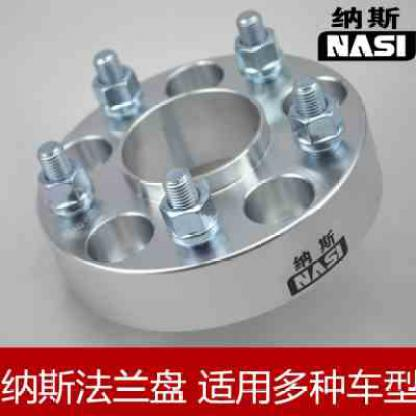FOD: (32, 39, 389, 337)
